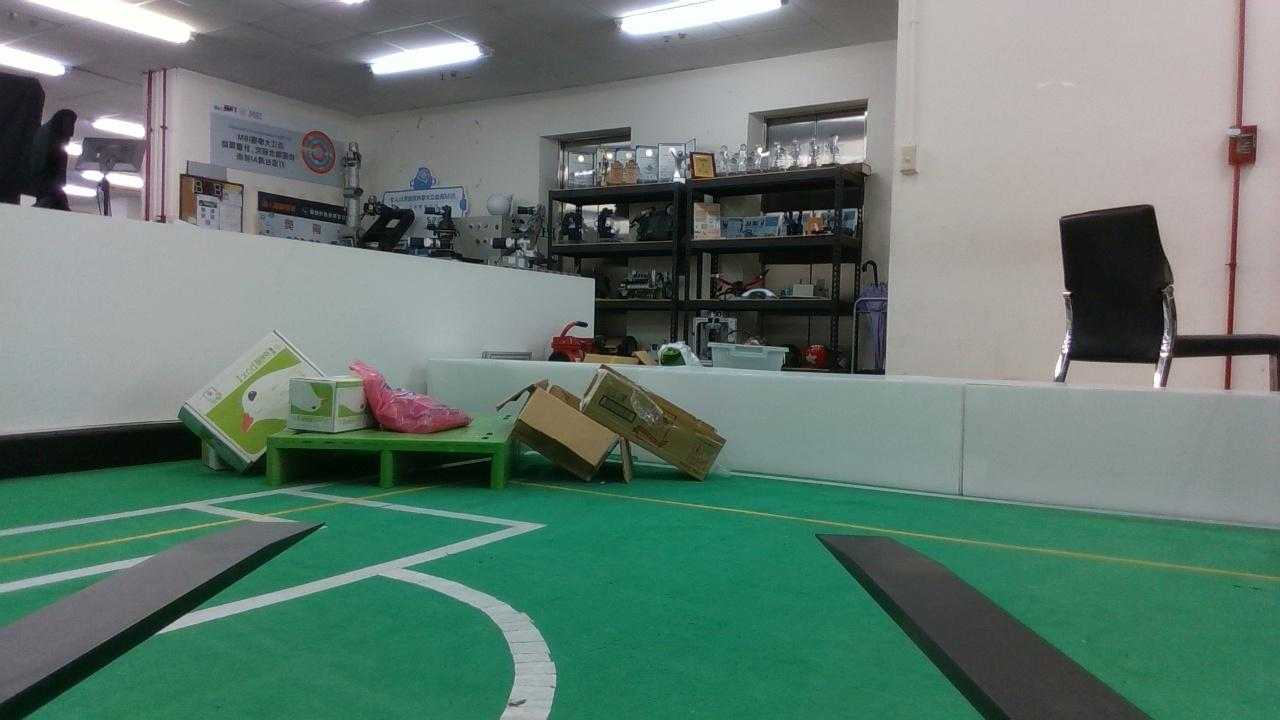Pallet: (266, 435, 507, 490)
